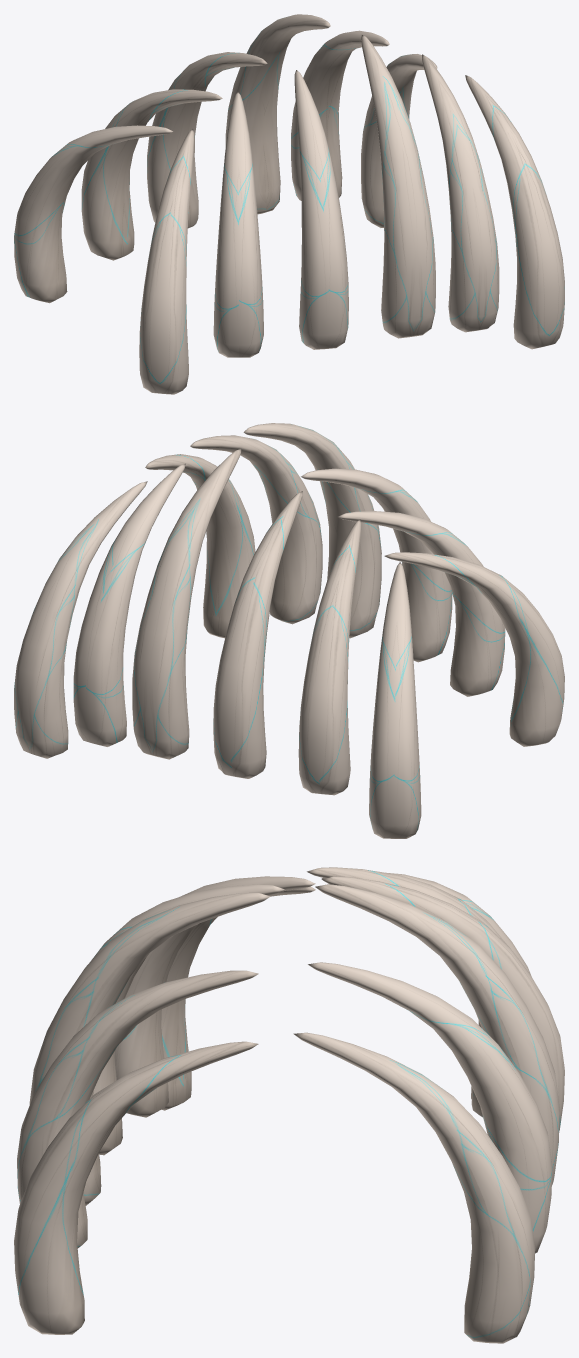
The model's file is Ribs.fbx.
3 renders of one model, top to bottom at view 1: azimuth 30°, elevation 25°; view 2: azimuth 150°, elevation 25°; view 3: azimuth 270°, elevation 25°, orthographic. The views are drawn at different scales.
Visible parts, largest first — view 1: Ribs; view 2: Ribs; view 3: Ribs.
Boxes of the visible parts, bbox=[...] form: Ribs: bbox=[14, 14, 564, 394]; Ribs: bbox=[14, 423, 564, 838]; Ribs: bbox=[14, 867, 564, 1343].
Bounding box in the file's own units: 441 × 294 × 397.
